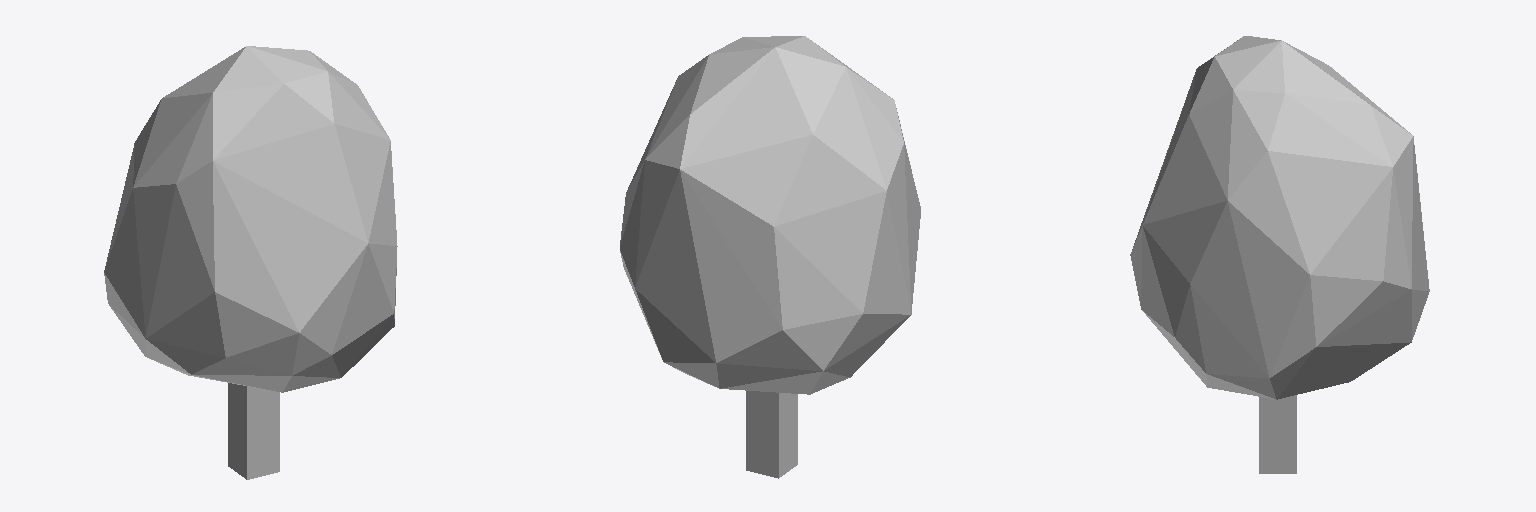
The model's file is Bush.obj.
The picture shows the model from 3 angles: view 1: azimuth 30°, elevation 25°; view 2: azimuth 150°, elevation 25°; view 3: azimuth 270°, elevation 25°; orthographic projection.
Parts seen in each view (by area): view 1: Icosphere; view 2: Icosphere; view 3: Icosphere.
Part boxes in pixels (x1,y1,x2,y2): Icosphere: (104,46,397,479); Icosphere: (620,36,920,478); Icosphere: (1130,36,1429,473).
Size of the model in its own units: 0.4004 by 0.6378 by 0.4091.